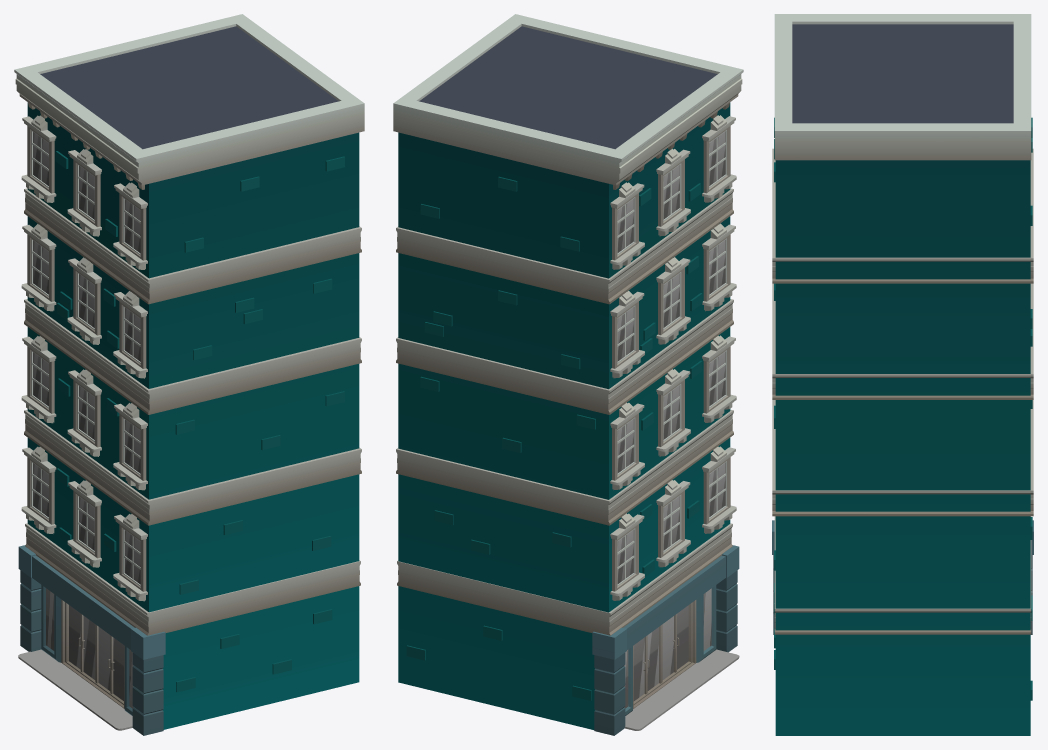
File: Building_21_1_I.fbx
3 views of the same model, side by side, from view 1: azimuth 30°, elevation 25°; view 2: azimuth 150°, elevation 25°; view 3: azimuth 270°, elevation 25° (orthographic). The views are drawn at different scales.
Parts seen in each view (by area): view 1: Building_21_1_I; view 2: Building_21_1_I; view 3: Building_21_1_I.
Part boxes in pixels (x1=…): Building_21_1_I: x1=14, y1=14, x2=364, y2=735; Building_21_1_I: x1=393, y1=14, x2=743, y2=735; Building_21_1_I: x1=772, y1=14, x2=1033, y2=735.
Size of the model in its own units: 779 by 1825 by 713.
